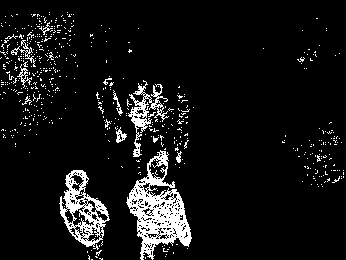person: (124, 153, 192, 260), (57, 169, 112, 260), (124, 79, 151, 158), (96, 75, 127, 143), (170, 84, 193, 164), (146, 82, 174, 145)
